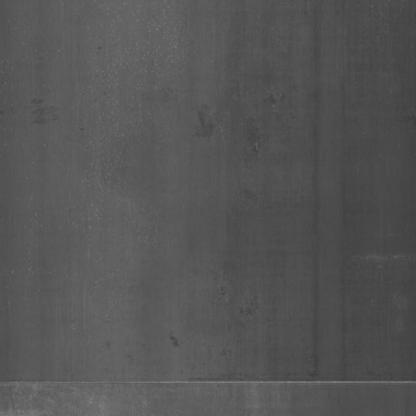welding_line: (0, 370, 412, 398)
